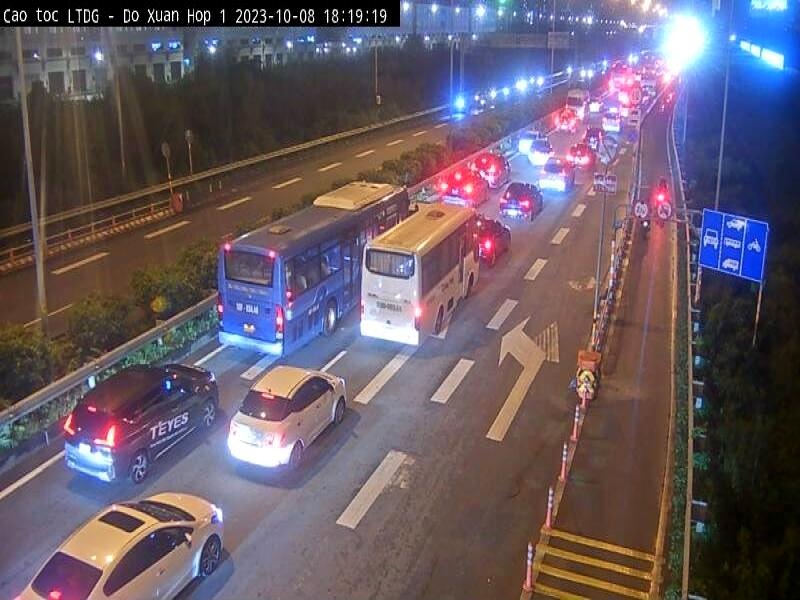bus: (197, 169, 413, 365), (350, 194, 489, 349)
car: (70, 345, 223, 484), (219, 350, 372, 472), (494, 169, 547, 238), (541, 144, 580, 190)
